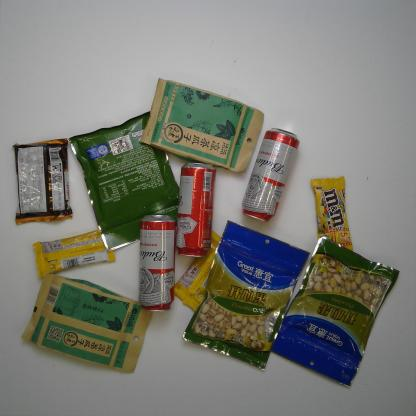Alcohol: (239, 124, 302, 224), (174, 161, 217, 258), (137, 213, 178, 313)
Chocolate: (32, 227, 115, 278), (174, 227, 221, 312), (309, 174, 354, 252)
Dessert: (12, 137, 73, 226)
Dried Food: (20, 271, 154, 375), (138, 77, 268, 175)
Dried Fruit: (269, 233, 401, 390), (182, 219, 312, 373), (67, 108, 191, 254)
